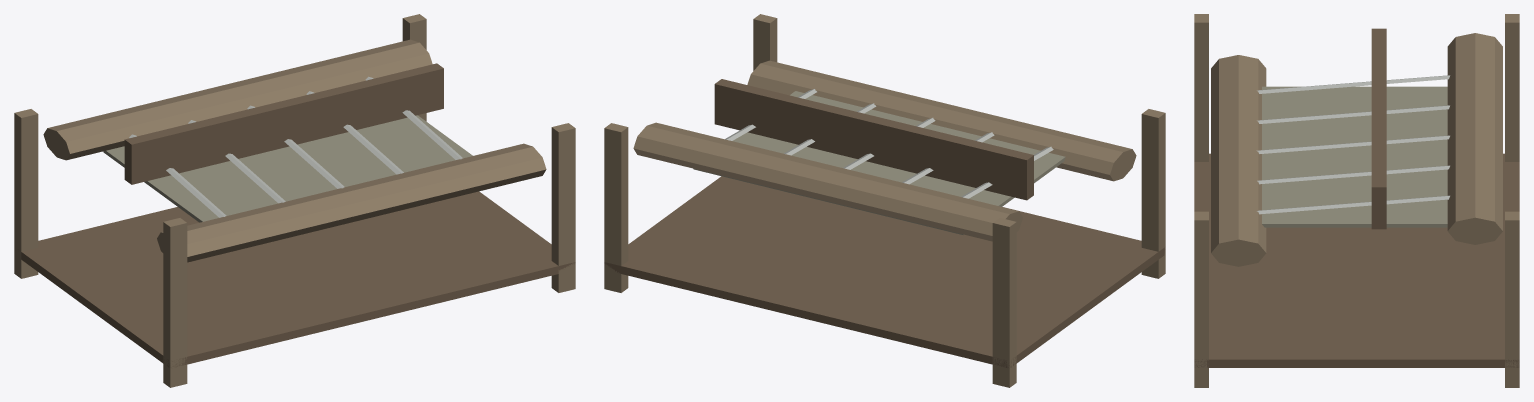
File: loom.glb
The picture shows the model from 3 angles, left to right: view 1: azimuth 30°, elevation 25°; view 2: azimuth 150°, elevation 25°; view 3: azimuth 270°, elevation 25°; orthographic projection. The views are drawn at different scales.
Visible parts, largest first — view 1: loom; view 2: loom; view 3: loom.
Part boxes in pixels (box(x1,y1,x2,y2)): loom: box(14, 14, 575, 387); loom: box(604, 14, 1165, 387); loom: box(1194, 14, 1519, 387).
Size of the model in its own units: 3 by 1.2 by 2.
